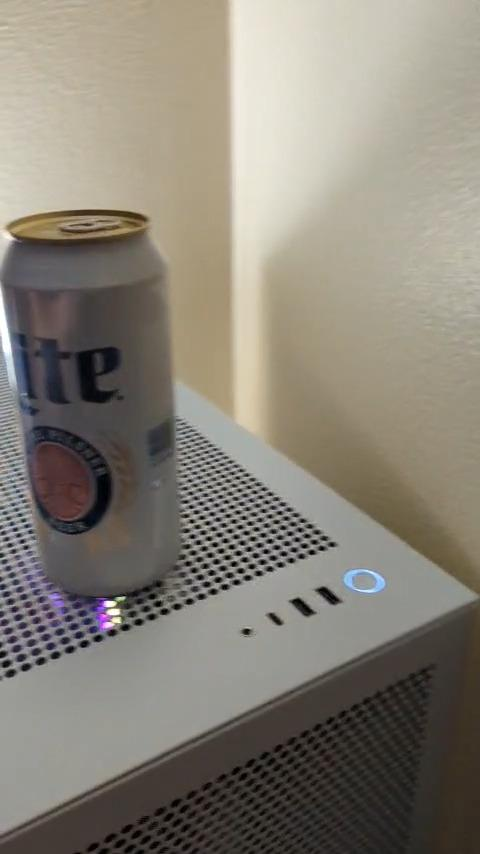metal: (0, 210, 178, 596)
